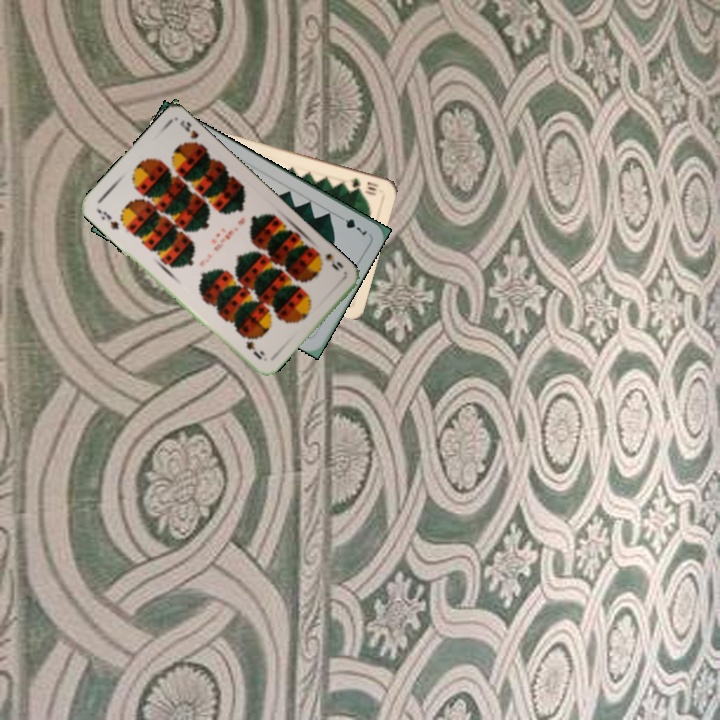G10: (346, 174, 382, 197)
G7: (333, 211, 370, 238)
S9: (312, 247, 346, 273), (97, 207, 121, 232)
